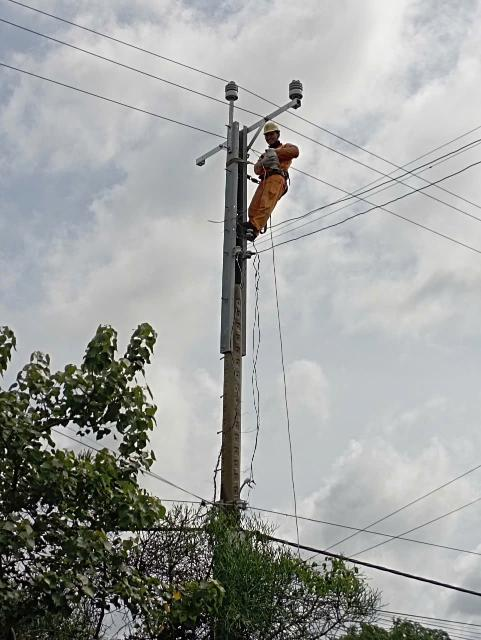harness: (261, 167, 293, 181)
helmet: (258, 112, 287, 139)
shoes: (238, 216, 261, 237)
